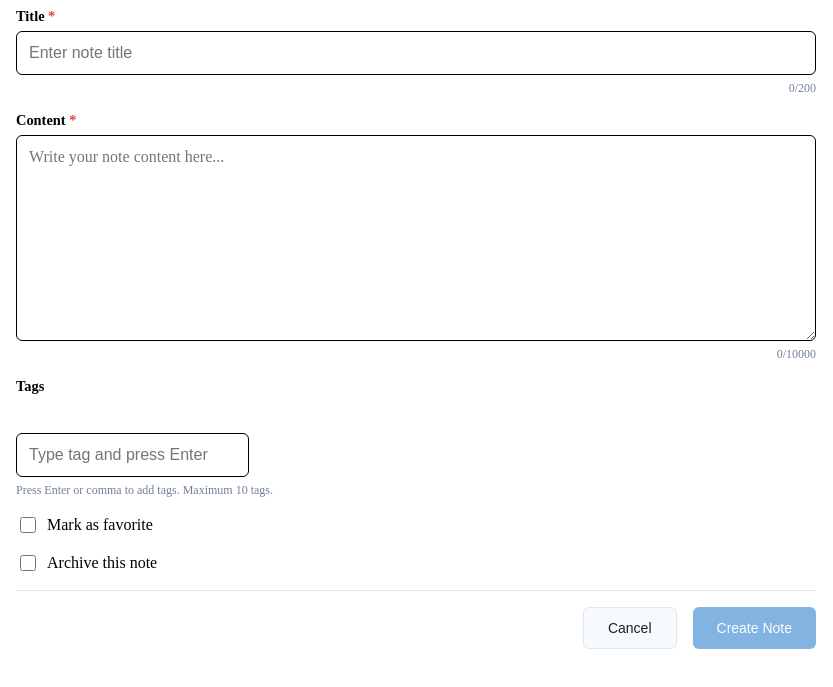
Scenario: NotesForm › Form Validation › should validate minimum title length
In the field with id "title": {"x": 416, "y": 53} [16, 31, 816, 75], type "Hi"
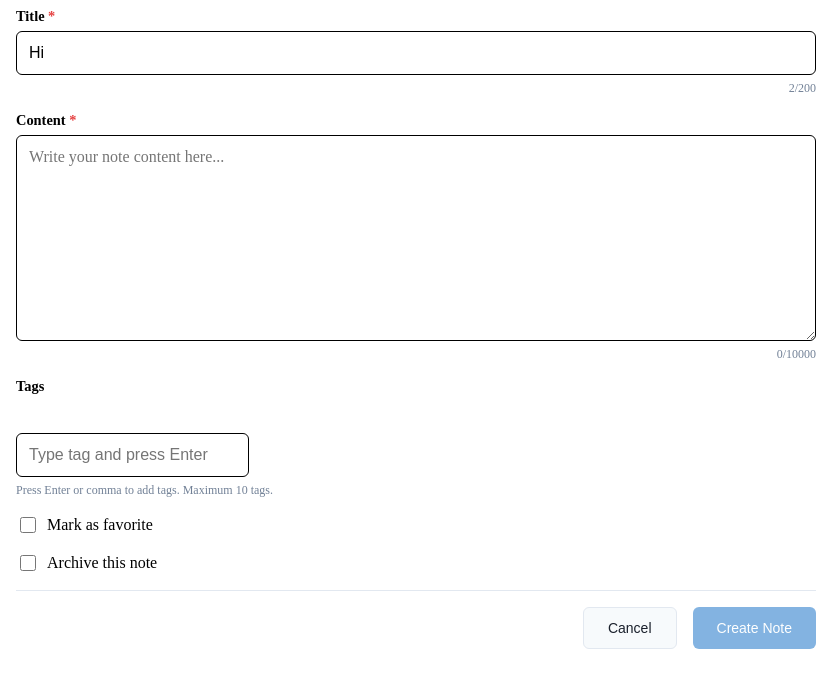
Leave the field with id "title", box [16, 31, 816, 75]
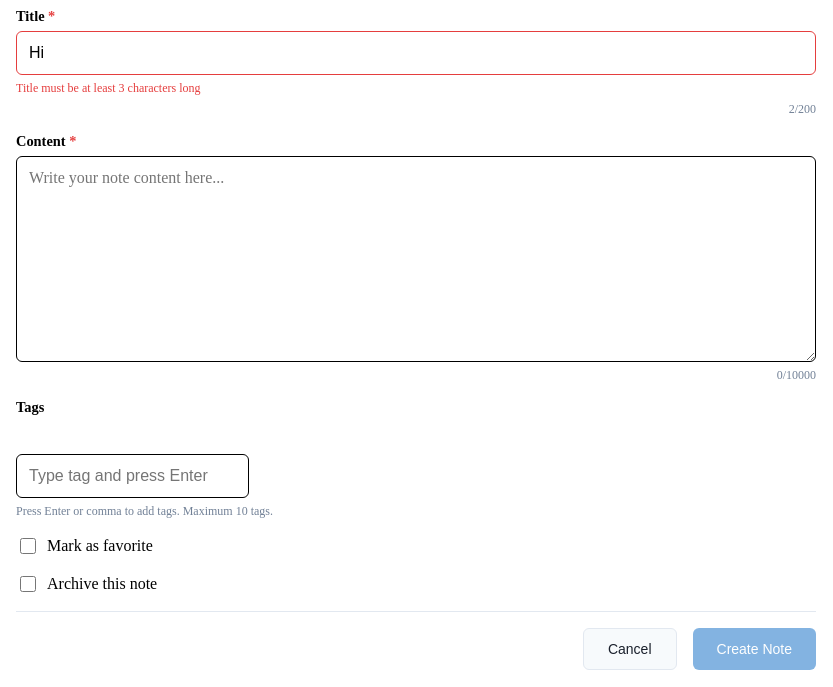
Check: the text with class "error-message" reads "Title must be at least 3 characters long", box [16, 81, 200, 95]
